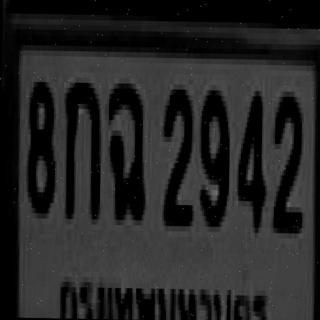A01: (61, 77, 100, 214)
A09: (105, 78, 145, 215)
N02: (270, 86, 302, 228), (160, 84, 192, 221)
N04: (236, 85, 264, 227)
N08: (26, 76, 54, 208)
N09: (198, 85, 229, 222)
